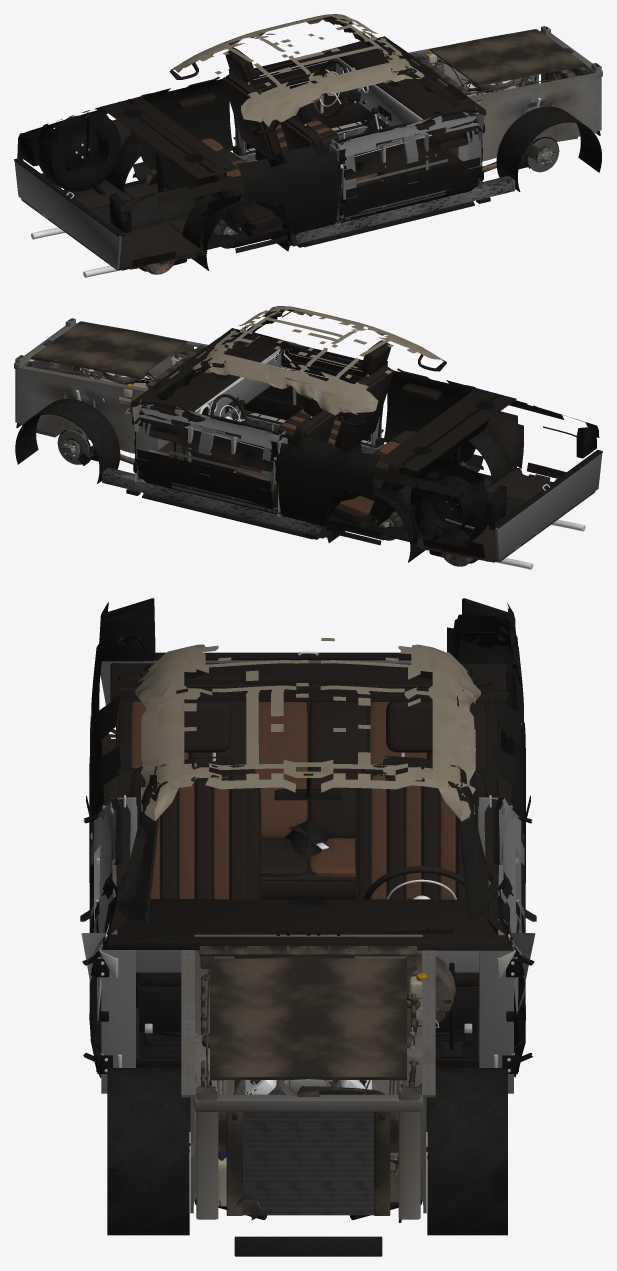
The model's file is gaucho-v8_completo.glb.
The picture shows the model from 3 angles, top to bottom: view 1: azimuth 30°, elevation 25°; view 2: azimuth 150°, elevation 25°; view 3: azimuth 270°, elevation 25°; orthographic projection. The views are drawn at different scales.
Parts seen in each view (by area): view 1: interior_portamalas_carpete, door_card_fr, interior_forro_teto, interior_lateral_traseira_dir, engine_paralama_interno_dir, hood_manta, interior_portamalas_estepe, interior_painel, door_card_fr_chapa, interior_banco_traseiro, interior_portamalas_tampao, interior_lateral_traseira_esq (+20 smaller); view 2: interior_portamalas_carpete, door_card_fl, interior_forro_teto, interior_lateral_traseira_esq, engine_paralama_interno_esq, hood_manta, interior_painel, door_card_fl_chapa, interior_portamalas_estepe, interior_portamalas_tampao, interior_lateral_traseira_dir, interior_banco_traseiro (+19 smaller); view 3: interior_banco_traseiro, hood_manta, interior_forro_teto, interior_painel, interior_banco_dianteiro_dir, engine_radiador, interior_banco_dianteiro_esq, under_caixa_roda_fr, under_caixa_roda_fl, engine_travessa, interior_portamalas_tampao, engine_corta_fogo (+23 smaller).
Part boxes in pixels (box(x1,y1,x2,y2)): interior_portamalas_carpete: box(14, 110, 243, 270); door_card_fr: box(335, 107, 480, 222); interior_forro_teto: box(169, 14, 424, 135); interior_lateral_traseira_dir: box(236, 146, 338, 246); engine_paralama_interno_dir: box(458, 73, 599, 161); hood_manta: box(429, 29, 586, 86); interior_portamalas_estepe: box(38, 106, 120, 191); interior_painel: box(334, 36, 486, 157); door_card_fr_chapa: box(331, 107, 484, 221); interior_banco_traseiro: box(118, 99, 285, 239); interior_portamalas_tampao: box(100, 96, 238, 178); interior_lateral_traseira_esq: box(140, 76, 232, 150); interior_portamalas_carpete: box(373, 400, 602, 562); door_card_fl: box(137, 398, 281, 514); interior_forro_teto: box(192, 306, 446, 428); interior_lateral_traseira_esq: box(278, 438, 380, 538); engine_paralama_interno_esq: box(17, 365, 158, 453); hood_manta: box(30, 322, 187, 378); interior_painel: box(131, 328, 283, 449); door_card_fl_chapa: box(132, 399, 285, 512); interior_portamalas_estepe: box(410, 458, 488, 552); interior_portamalas_tampao: box(378, 388, 516, 471); interior_lateral_traseira_dir: box(384, 368, 476, 442); interior_banco_traseiro: box(333, 391, 498, 531); interior_banco_traseiro: box(116, 674, 509, 899); hood_manta: box(210, 958, 406, 1080); interior_forro_teto: box(135, 638, 482, 821); interior_painel: box(102, 897, 516, 972); interior_banco_dianteiro_dir: box(129, 699, 261, 1044); engine_radiador: box(226, 1112, 390, 1215); interior_banco_dianteiro_esq: box(355, 689, 487, 1044); under_caixa_roda_fr: box(107, 1068, 189, 1235); under_caixa_roda_fl: box(427, 1068, 507, 1235); engine_travessa: box(193, 1080, 423, 1220); interior_portamalas_tampao: box(110, 663, 506, 702); engine_corta_fogo: box(194, 934, 455, 1094).
Size of what is drawn, in the model's own units: 4.43 by 1.34 by 1.67.
Materials: 50 (50 with a texture image).
